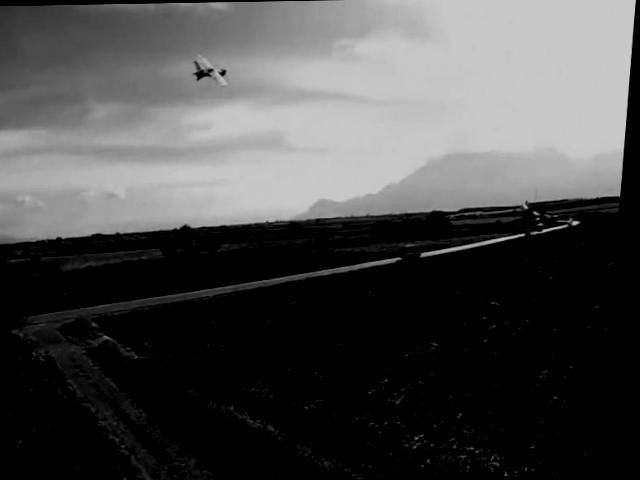hedef: (186, 48, 236, 98)
